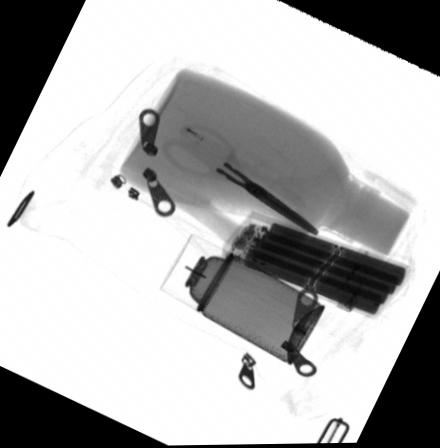Lighter: (328, 239, 390, 314)
Powerbank: (218, 212, 416, 320)
Scissors: (159, 120, 319, 235)
Sprayer: (159, 231, 326, 365)
